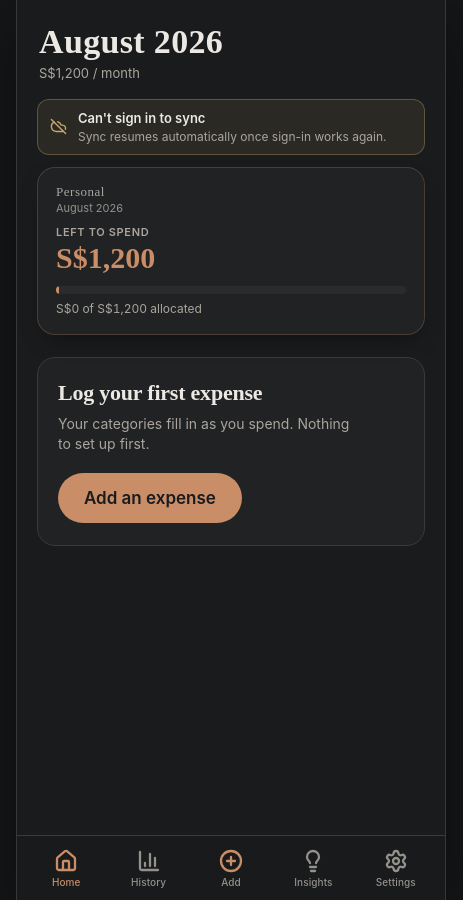
Test: App › keeps the five-tab shell visible on Insights and Settings
Click the button "Insights". click: (313, 868)
box: 272,844 -> 355,892
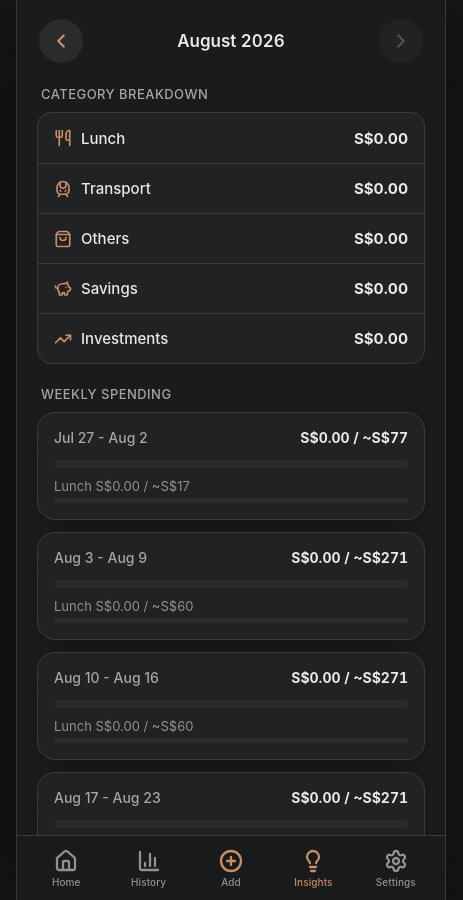
Expected: the heading named "Insights" is shown, 177,31 -> 285,51
Expected: the navigation bar named "Main navigation" is shown, 17,835 -> 445,899
Click the button "Settings". click: (396, 868)
box: 355,844 -> 437,892
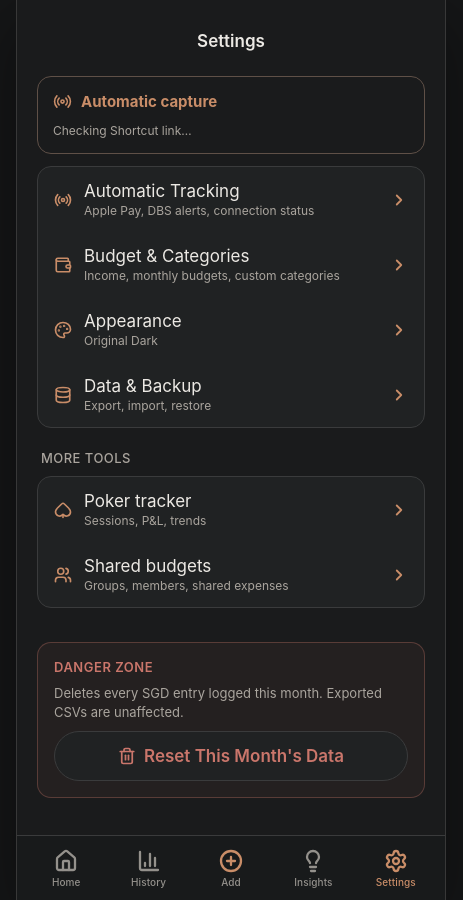
Expected: the navigation bar named "Main navigation" is shown, 17,835 -> 445,899
Expected: the heading "Settings" is shown, 197,31 -> 265,51
